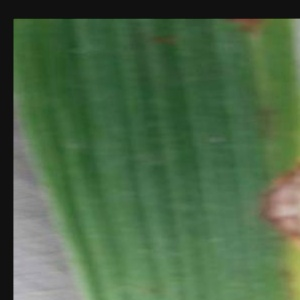Brown_Spot: (248, 143, 300, 266)
